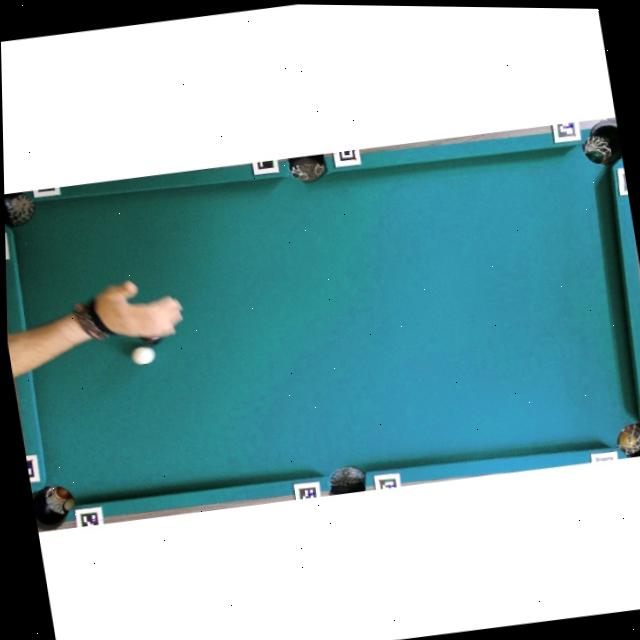cue ball: (130, 343, 158, 367)
